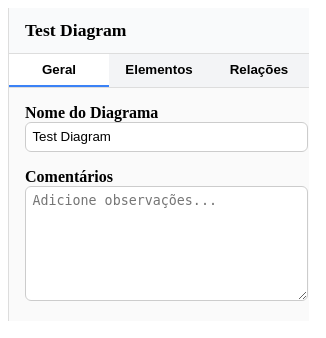
Sidebar › mostra mensagem quando não há relações
This screenshot has width=326, height=338.
Click the button "Relações": (259, 70) [209,54,309,87]
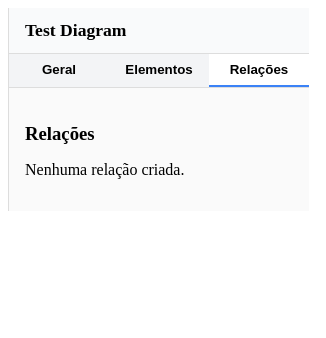
Check: the text "Nenhuma relação criada." is shown, box [25,161,184,178]
